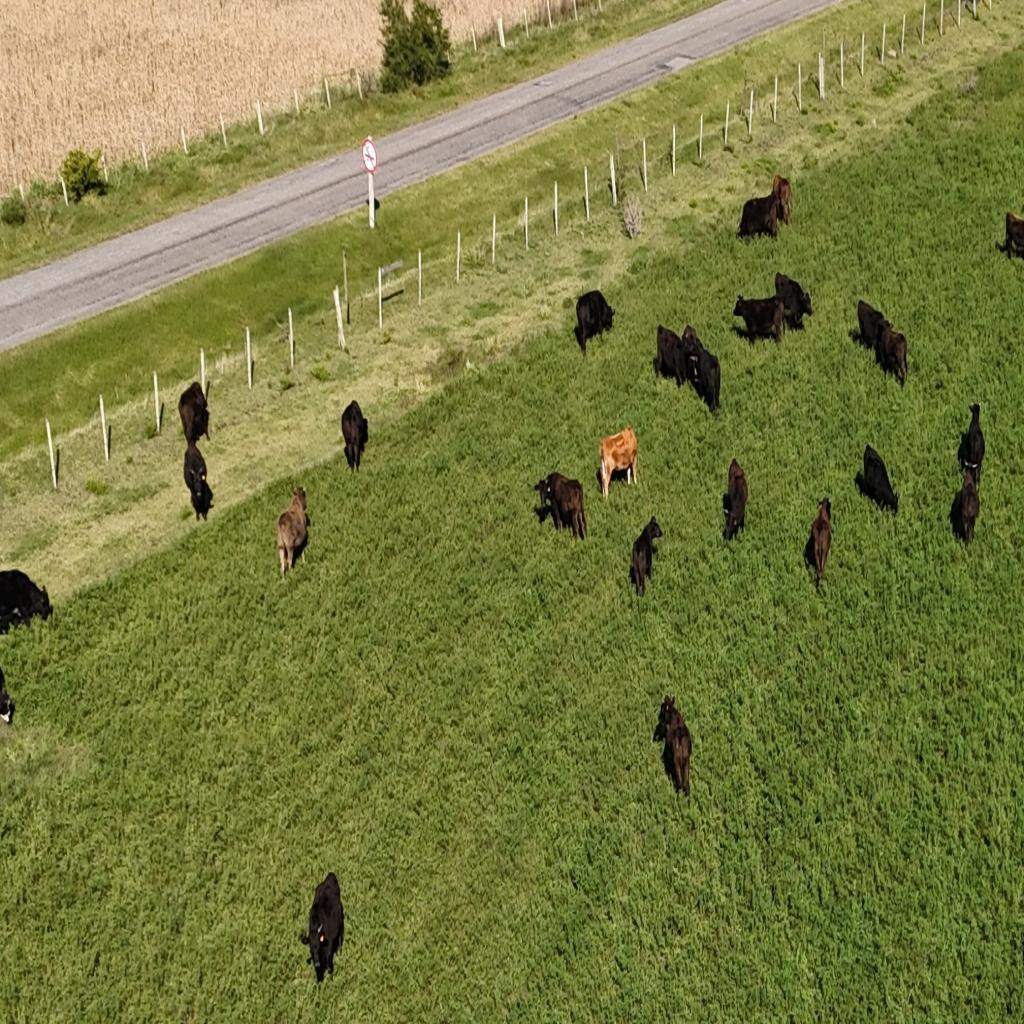cow: (299, 874, 345, 987), (654, 694, 692, 800), (690, 325, 730, 418), (0, 570, 54, 638), (536, 470, 587, 540), (276, 486, 310, 582), (598, 429, 644, 498), (857, 445, 898, 515), (733, 294, 786, 348), (628, 515, 662, 595), (574, 289, 614, 355), (950, 466, 981, 546), (806, 498, 832, 592), (184, 440, 214, 521), (958, 402, 986, 485), (774, 272, 814, 330), (736, 192, 782, 242), (722, 456, 748, 543), (652, 329, 688, 391), (178, 382, 210, 447), (341, 400, 368, 474), (878, 322, 908, 388), (857, 300, 888, 351), (996, 211, 1022, 262), (770, 174, 793, 228)
